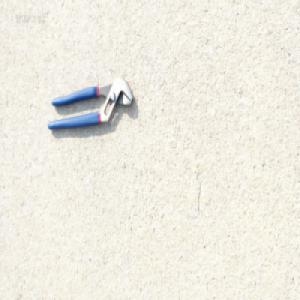Pliers: (46, 76, 134, 132)
